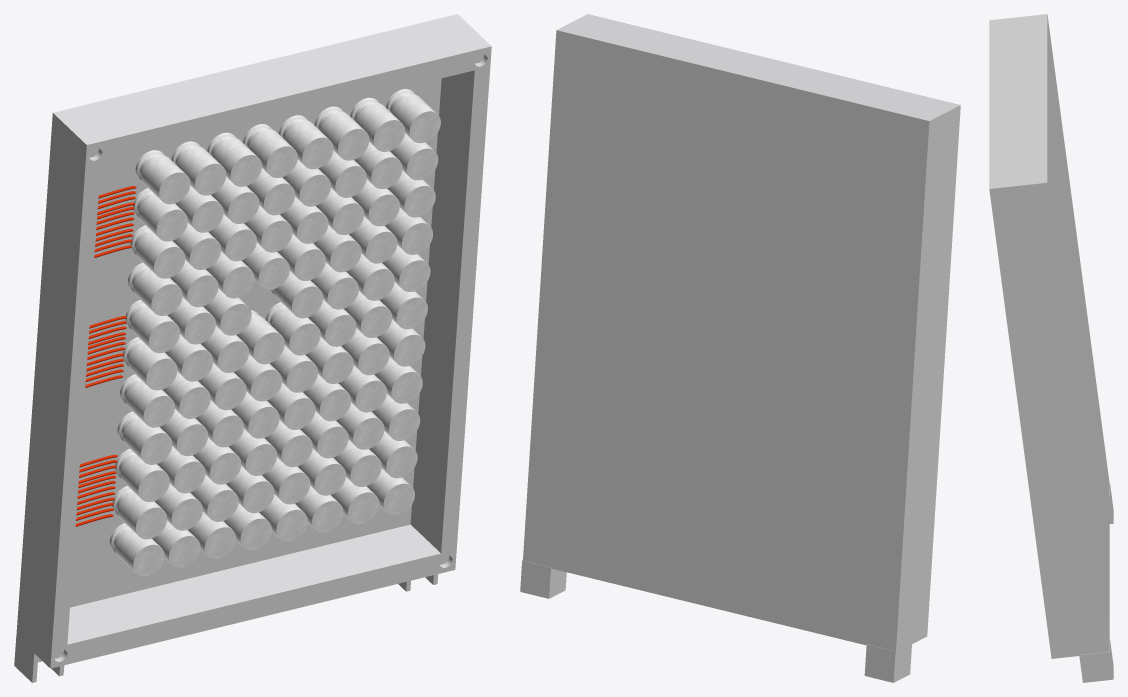
File: SuperCapacitor.glb
3 renders of one model, left to right at view 1: azimuth 30°, elevation 25°; view 2: azimuth 150°, elevation 25°; view 3: azimuth 270°, elevation 25°, orthographic. The views are drawn at different scales.
Visible parts, largest first — view 1: SuperCapacitor; view 2: SuperCapacitor; view 3: SuperCapacitor.
Part boxes in pixels (box(x1,y1,x2,y2)): SuperCapacitor: box(14, 14, 491, 682); SuperCapacitor: box(520, 14, 960, 682); SuperCapacitor: box(989, 14, 1113, 682).
Bounding box in the file's own units: 0.5245 × 0.7237 × 0.1632.
Materials: 3 (2 with a texture image).
